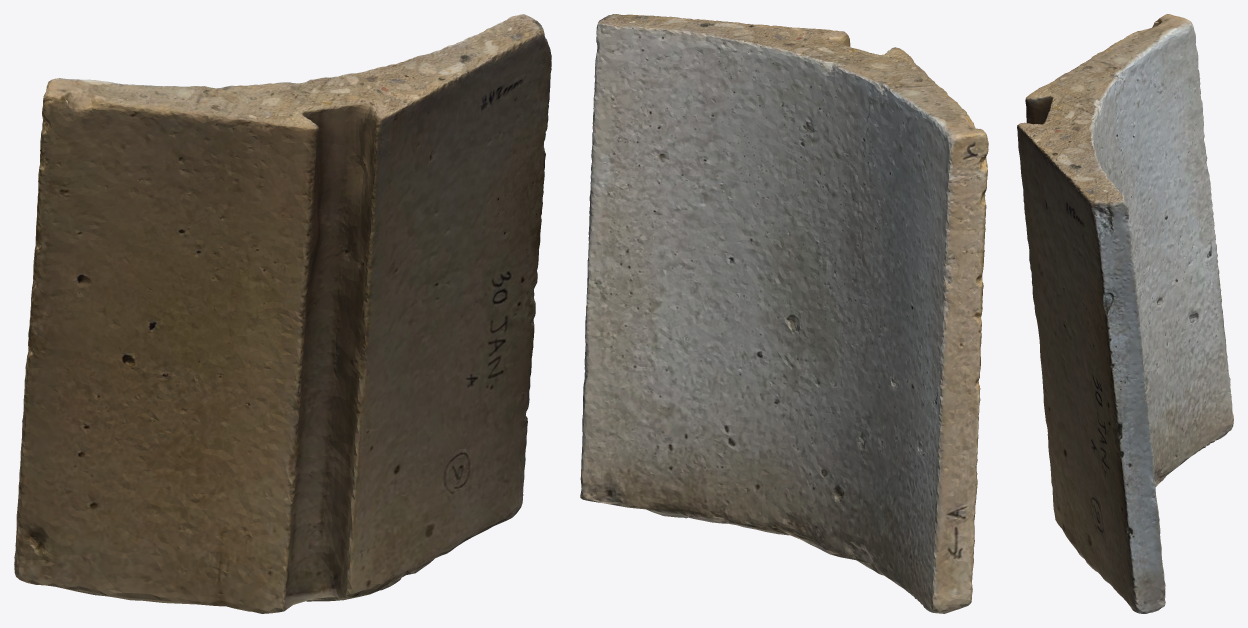
Rendered from Pixel 9.glb.
3 views of the same model, side by side, from view 1: azimuth 30°, elevation 25°; view 2: azimuth 150°, elevation 25°; view 3: azimuth 270°, elevation 25° (orthographic). The views are drawn at different scales.
Size of the model in its own units: 0.2503 by 0.2678 by 0.1224.
Materials: 1 (1 with a texture image).
